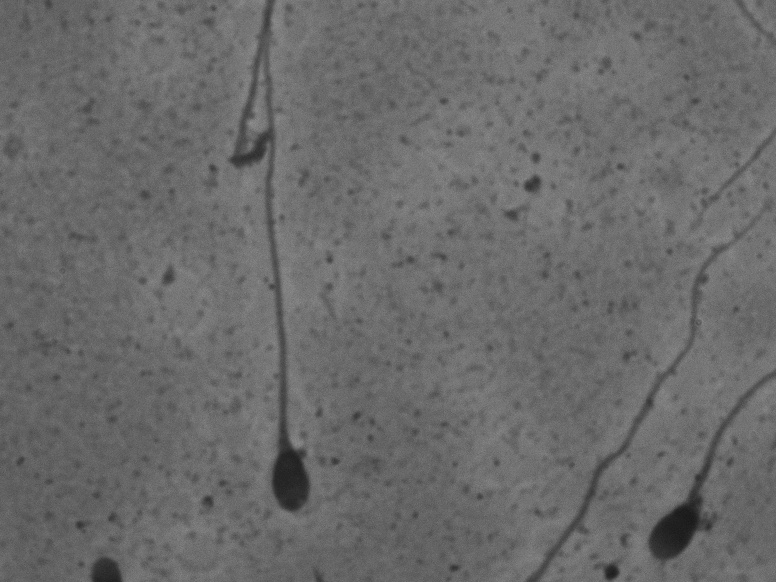Normal: (198, 18, 365, 548)
